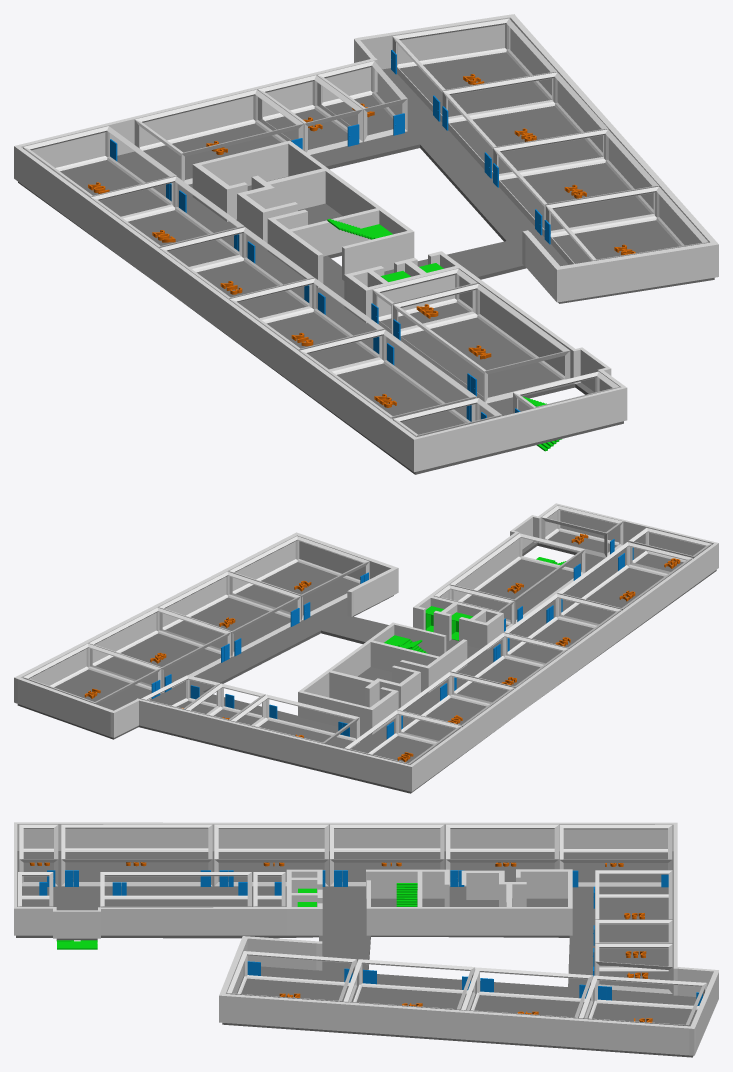
3 renders of one model, top to bottom at view 1: azimuth 30°, elevation 25°; view 2: azimuth 150°, elevation 25°; view 3: azimuth 270°, elevation 25°, orthographic. The views are drawn at different scales.
Parts seen in each view (by area): view 1: Wall.002, Floor.002, B102.015, B102.018, B102.019, B102.020, B102.012, B102.010, B102.021, B102.009, B102.006, B102.013 (+6 smaller); view 2: Wall.002, Floor.002, B102.018, B102.021, B102.019, B102.015, B102.010, B102.020, B102.012, B102.008, B102.016, B102.009 (+6 smaller); view 3: Wall.002, Floor.002, B102.010, B102.007, B102.009, B102.015, B102.008, B102.006, B102.018, B102.019, B102.021, B102.020 (+7 smaller).
Part boxes in pixels (box(x1,y1,x2,y2)): Wall.002: box(14, 14, 718, 472); Floor.002: box(18, 52, 714, 474); B102.015: box(393, 283, 570, 403); B102.018: box(493, 129, 658, 236); B102.019: box(442, 72, 608, 178); B102.020: box(392, 18, 556, 122); B102.012: box(134, 89, 303, 184); B102.010: box(299, 329, 476, 423); B102.021: box(545, 186, 708, 264); B102.009: box(229, 278, 384, 371); B102.006: box(90, 176, 244, 268); B102.013: box(257, 75, 363, 154); Wall.002: box(14, 503, 718, 791); Floor.002: box(17, 531, 716, 793); B102.018: box(158, 571, 300, 656); B102.021: box(228, 536, 369, 620); B102.019: box(89, 607, 231, 692); B102.015: box(449, 533, 585, 623); B102.010: box(557, 542, 692, 625); B102.020: box(23, 643, 161, 704); B102.012: box(231, 694, 359, 748); B102.008: box(450, 632, 568, 703); B102.016: box(541, 505, 623, 557); B102.009: box(503, 593, 621, 664); Wall.002: box(14, 822, 718, 1055); Floor.002: box(16, 851, 697, 1057); B102.010: box(61, 824, 212, 886); B102.007: box(559, 825, 672, 886); B102.009: box(214, 824, 328, 886); B102.015: box(100, 872, 251, 907); B102.008: box(330, 824, 444, 886); B102.006: box(446, 824, 558, 886); B102.018: box(343, 959, 475, 1010); B102.019: box(461, 967, 593, 1018); B102.021: box(226, 951, 356, 1001); B102.020: box(578, 975, 707, 1026).
Size of the model in its own units: 2.3 by 0.3116 by 3.32.
